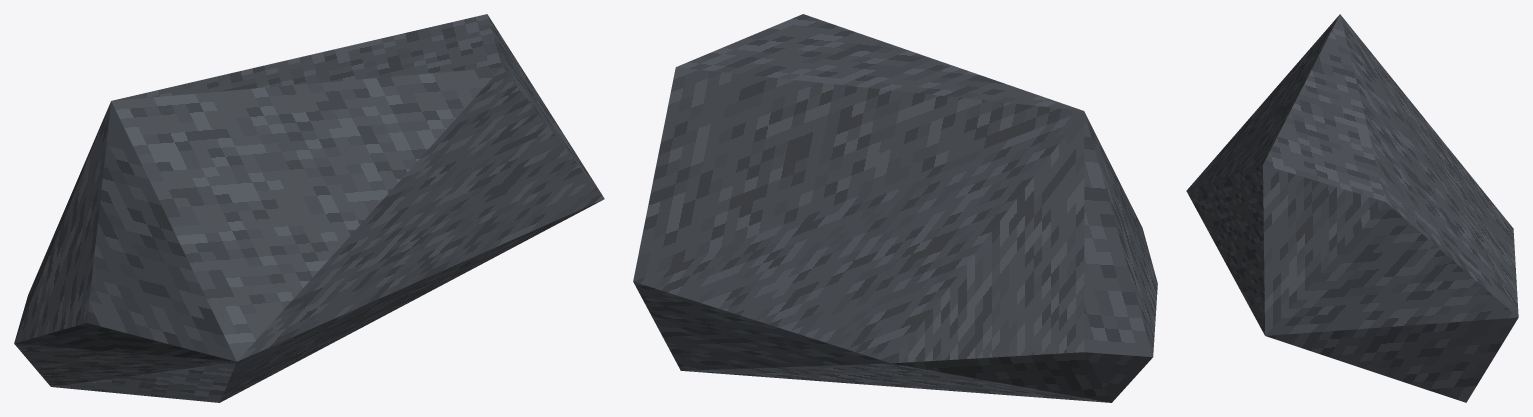
Rendered from rock_flaking.glb.
The picture shows the model from 3 angles, left to right: view 1: azimuth 30°, elevation 25°; view 2: azimuth 150°, elevation 25°; view 3: azimuth 270°, elevation 25°; orthographic projection. The views are drawn at different scales.
Parts seen in each view (by area): view 1: block_flint; view 2: block_flint; view 3: block_flint.
Boxes of the visible parts, x1,y1,x2,y2 form: block_flint: [14, 14, 604, 402]; block_flint: [633, 14, 1157, 402]; block_flint: [1186, 14, 1518, 402].
Bounding box in the file's own units: 0.0827 × 0.0469 × 0.0544.
1 material, 1 textured.
